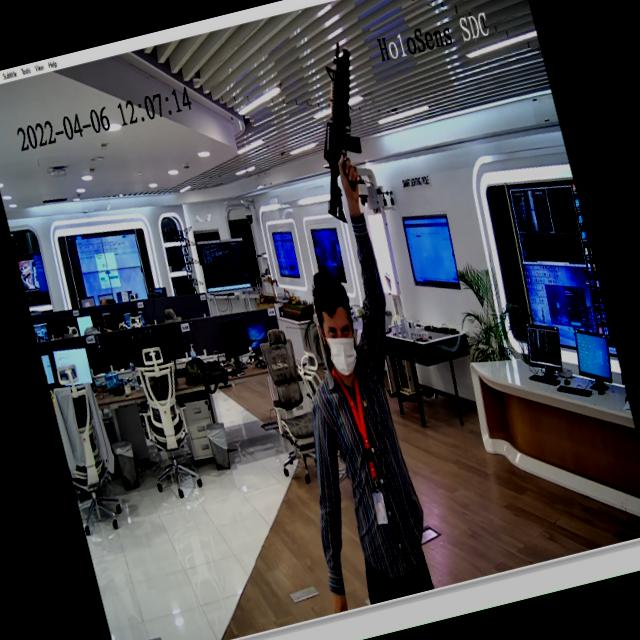long weapon: (283, 27, 402, 233)
